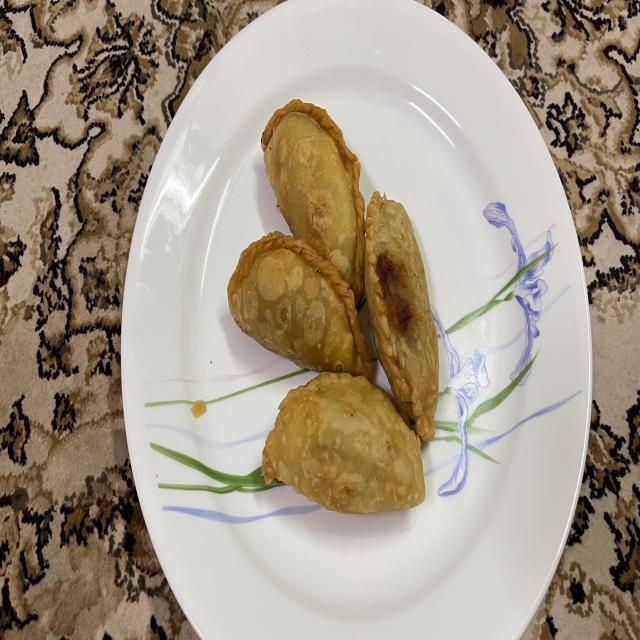karipap: (262, 373, 425, 513), (228, 231, 372, 378), (261, 100, 365, 302), (365, 191, 439, 440)
